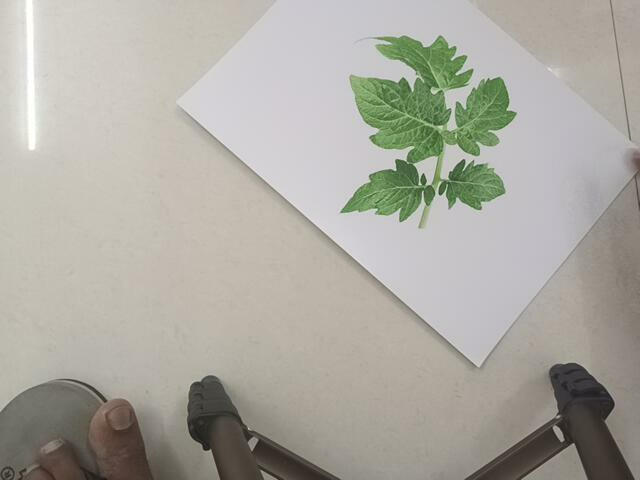Tomamto_Leaf_Healthy: (318, 24, 540, 255)
